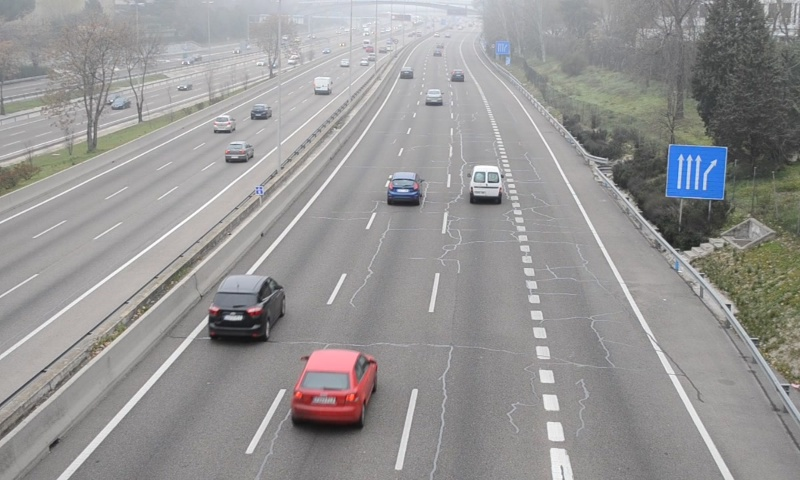car: (293, 350, 376, 424), (208, 276, 285, 339), (387, 171, 422, 205), (425, 88, 444, 106), (449, 68, 464, 83)
van: (468, 165, 502, 204)
